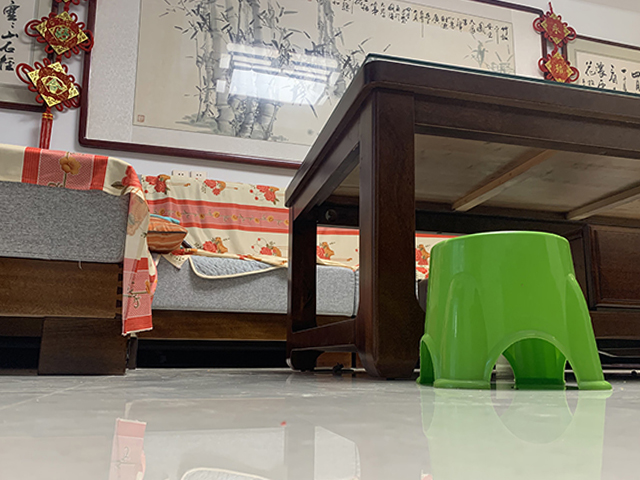sofa: (1, 141, 291, 378)
stool: (413, 230, 616, 391)
table: (283, 51, 640, 381)
